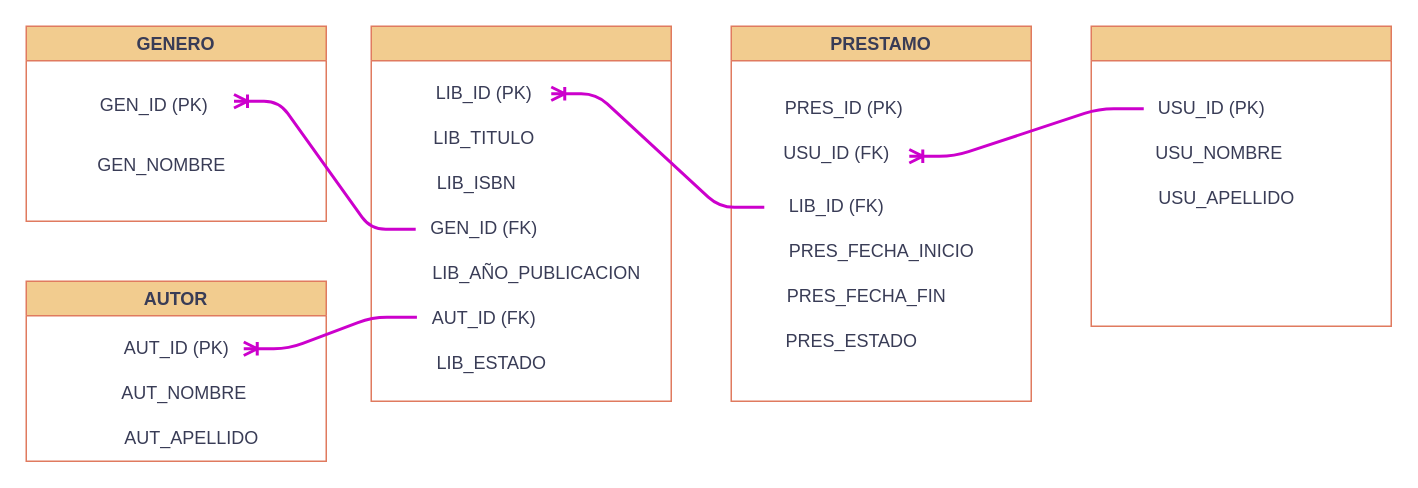
Some shapes in this 1418 by 488 pixel diagram are drawn without their labels. The shapes that lost their labels are listed below. From the top down, each one's box as (x1, y1, x2, y2) in pixels, then its label:
(1090, 25, 1391, 326): USUARIO
(370, 25, 671, 401): LIBRO
